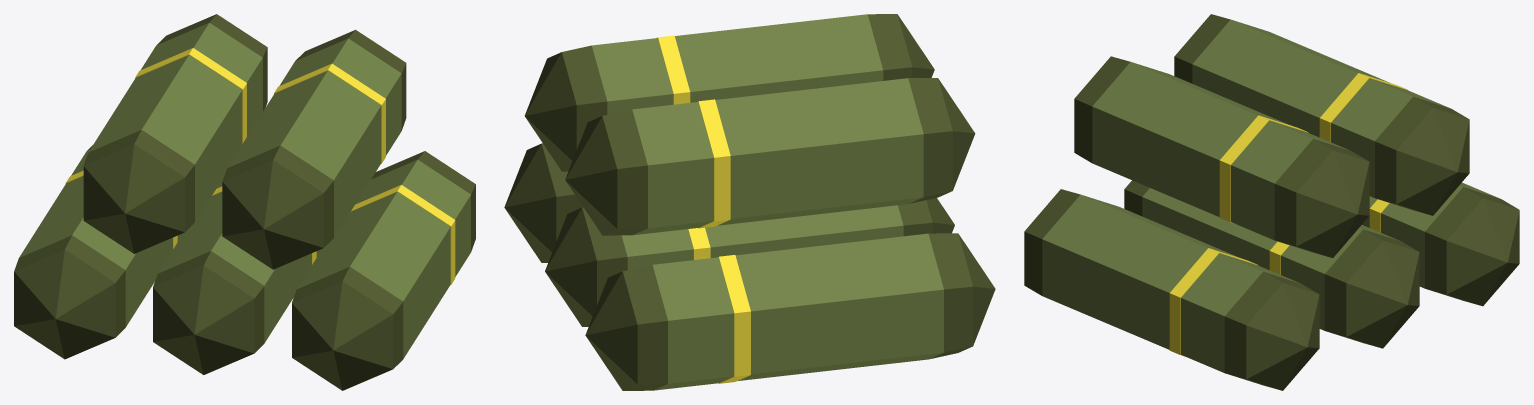
File: ce_ammo2_smaw_heat_c.obj
The picture shows the model from 3 angles, left to right: view 1: azimuth 30°, elevation 25°; view 2: azimuth 150°, elevation 25°; view 3: azimuth 270°, elevation 25°; orthographic projection. The views are drawn at different scales.
Visible parts, largest first — view 1: ce_ammo2_smaw_heat_c_30, ce_ammo2_smaw_heat_c_23, ce_ammo2_smaw_heat_c_16, ce_ammo2_smaw_heat_c_28, ce_ammo2_smaw_heat_c_7, ce_ammo2_smaw_heat_c_21, ce_ammo2_smaw_heat_c_14, ce_ammo2_smaw_heat_c_0, ce_ammo2_smaw_heat_c_2, ce_ammo2_smaw_heat_c_9, ce_ammo2_smaw_heat_c_32, ce_ammo2_smaw_heat_c_25 (+12 smaller); view 2: ce_ammo2_smaw_heat_c_23, ce_ammo2_smaw_heat_c_2, ce_ammo2_smaw_heat_c_30, ce_ammo2_smaw_heat_c_4, ce_ammo2_smaw_heat_c_25, ce_ammo2_smaw_heat_c_9, ce_ammo2_smaw_heat_c_32, ce_ammo2_smaw_heat_c_27, ce_ammo2_smaw_heat_c_6, ce_ammo2_smaw_heat_c_20, ce_ammo2_smaw_heat_c_34, ce_ammo2_smaw_heat_c_13 (+18 smaller); view 3: ce_ammo2_smaw_heat_c_16, ce_ammo2_smaw_heat_c_30, ce_ammo2_smaw_heat_c_23, ce_ammo2_smaw_heat_c_34, ce_ammo2_smaw_heat_c_27, ce_ammo2_smaw_heat_c_6, ce_ammo2_smaw_heat_c_20, ce_ammo2_smaw_heat_c_13, ce_ammo2_smaw_heat_c_32, ce_ammo2_smaw_heat_c_18, ce_ammo2_smaw_heat_c_9, ce_ammo2_smaw_heat_c_25 (+14 smaller).
Boxes of the visible parts, left/top/right/bottom form: ce_ammo2_smaw_heat_c_30: left=227, top=70, right=381, bottom=237; ce_ammo2_smaw_heat_c_23: left=88, top=55, right=242, bottom=221; ce_ammo2_smaw_heat_c_16: left=297, top=192, right=450, bottom=358; ce_ammo2_smaw_heat_c_28: left=222, top=160, right=323, bottom=269; ce_ammo2_smaw_heat_c_7: left=153, top=265, right=254, bottom=374; ce_ammo2_smaw_heat_c_21: left=83, top=144, right=184, bottom=253; ce_ammo2_smaw_heat_c_14: left=292, top=281, right=393, bottom=390; ce_ammo2_smaw_heat_c_0: left=14, top=250, right=115, bottom=359; ce_ammo2_smaw_heat_c_2: left=19, top=176, right=172, bottom=327; ce_ammo2_smaw_heat_c_9: left=158, top=192, right=311, bottom=343; ce_ammo2_smaw_heat_c_32: left=279, top=38, right=401, bottom=155; ce_ammo2_smaw_heat_c_25: left=141, top=23, right=262, bottom=136; ce_ammo2_smaw_heat_c_23: left=715, top=78, right=923, bottom=225; ce_ammo2_smaw_heat_c_2: left=735, top=233, right=943, bottom=380; ce_ammo2_smaw_heat_c_30: left=675, top=14, right=883, bottom=102; ce_ammo2_smaw_heat_c_4: left=652, top=257, right=734, bottom=390; ce_ammo2_smaw_heat_c_25: left=632, top=102, right=713, bottom=235; ce_ammo2_smaw_heat_c_9: left=705, top=205, right=903, bottom=257; ce_ammo2_smaw_heat_c_32: left=592, top=38, right=673, bottom=114; ce_ammo2_smaw_heat_c_27: left=565, top=116, right=617, bottom=235; ce_ammo2_smaw_heat_c_6: left=585, top=271, right=637, bottom=390; ce_ammo2_smaw_heat_c_20: left=504, top=143, right=556, bottom=262; ce_ammo2_smaw_heat_c_34: left=524, top=52, right=576, bottom=171; ce_ammo2_smaw_heat_c_13: left=545, top=207, right=596, bottom=326; ce_ammo2_smaw_heat_c_16: left=1042, top=194, right=1239, bottom=349; ce_ammo2_smaw_heat_c_30: left=1092, top=62, right=1288, bottom=216; ce_ammo2_smaw_heat_c_23: left=1192, top=19, right=1389, bottom=137; ce_ammo2_smaw_heat_c_34: left=1296, top=150, right=1369, bottom=257; ce_ammo2_smaw_heat_c_27: left=1396, top=108, right=1469, bottom=215; ce_ammo2_smaw_heat_c_6: left=1446, top=198, right=1519, bottom=306; ce_ammo2_smaw_heat_c_20: left=1246, top=283, right=1319, bottom=390; ce_ammo2_smaw_heat_c_13: left=1346, top=240, right=1419, bottom=348; ce_ammo2_smaw_heat_c_32: left=1231, top=120, right=1349, bottom=240; ce_ammo2_smaw_heat_c_18: left=1181, top=253, right=1299, bottom=372; ce_ammo2_smaw_heat_c_9: left=1142, top=188, right=1277, bottom=269; ce_ammo2_smaw_heat_c_25: left=1331, top=78, right=1448, bottom=197.
Bounding box in the file's own units: 0.7098 × 0.3582 × 0.7098.
